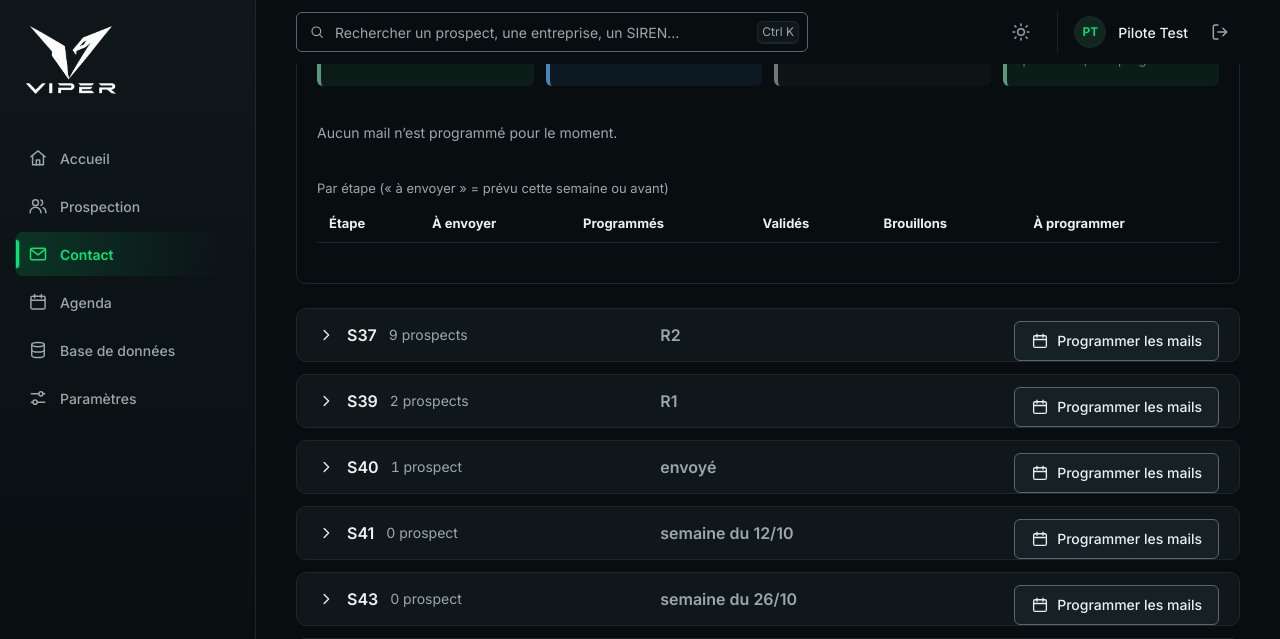
Test case: Contact page › opens a section with its arrow: its own prospects, every state, alphabetical by company, then closes it
(page scrolled)
Click the button "S39 2 prospects R1".
click(362, 401)  # box 297,375 -> 1239,427
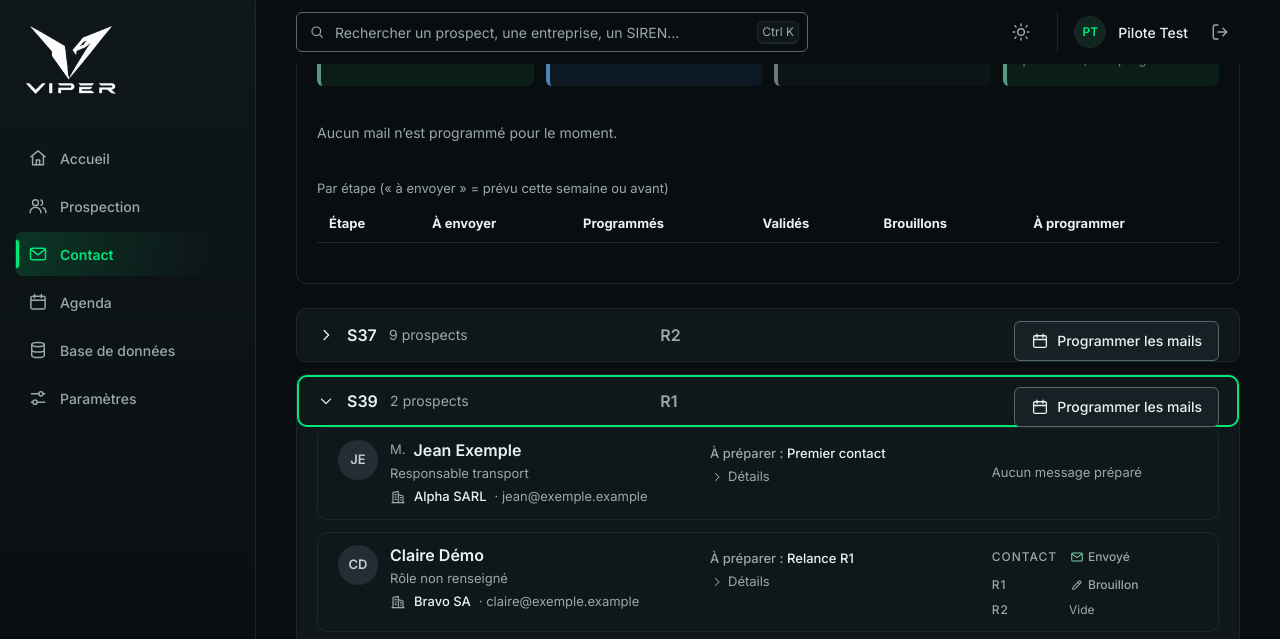
Check: the button "S39 2 prospects R1" is expanded
Click the button "S39 2 prospects R1".
click(362, 401)  # box 297,375 -> 1239,427
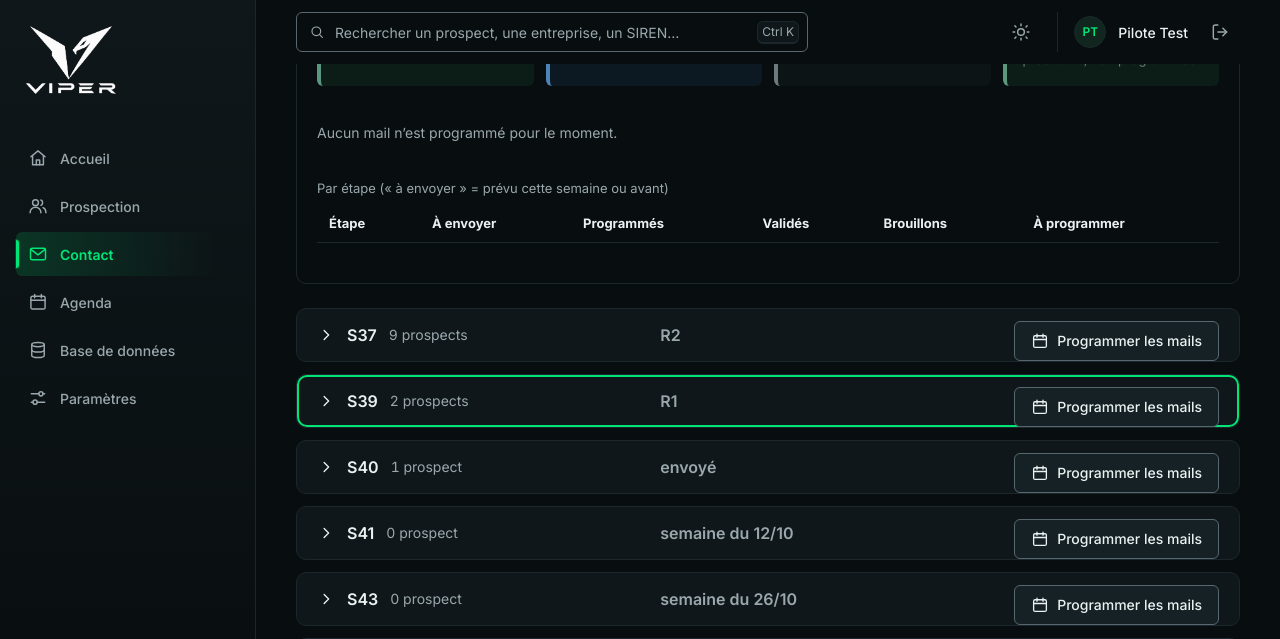
Check: the button "S39 2 prospects R1" is collapsed, box 297,375 -> 1239,427
